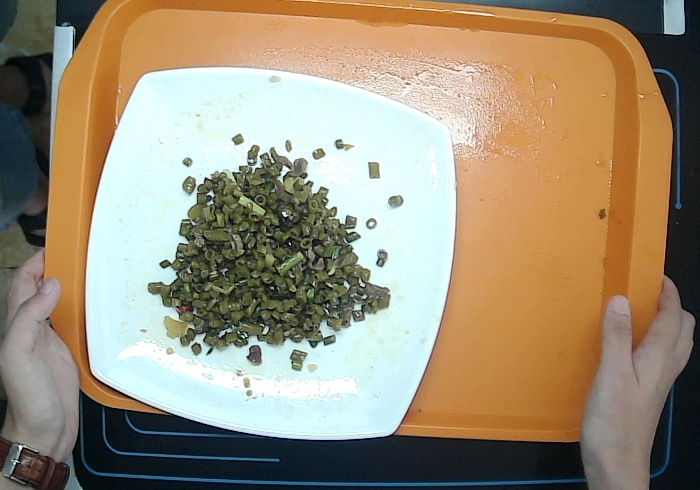ZNLD-Bai_Fang_Pan: (82, 64, 461, 441)
